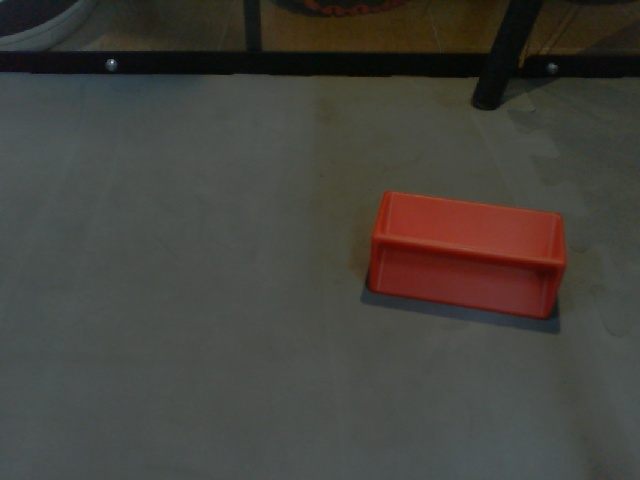RedSample: (366, 186, 568, 319)
